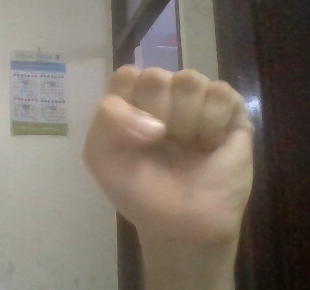click: (68, 54, 271, 274)
